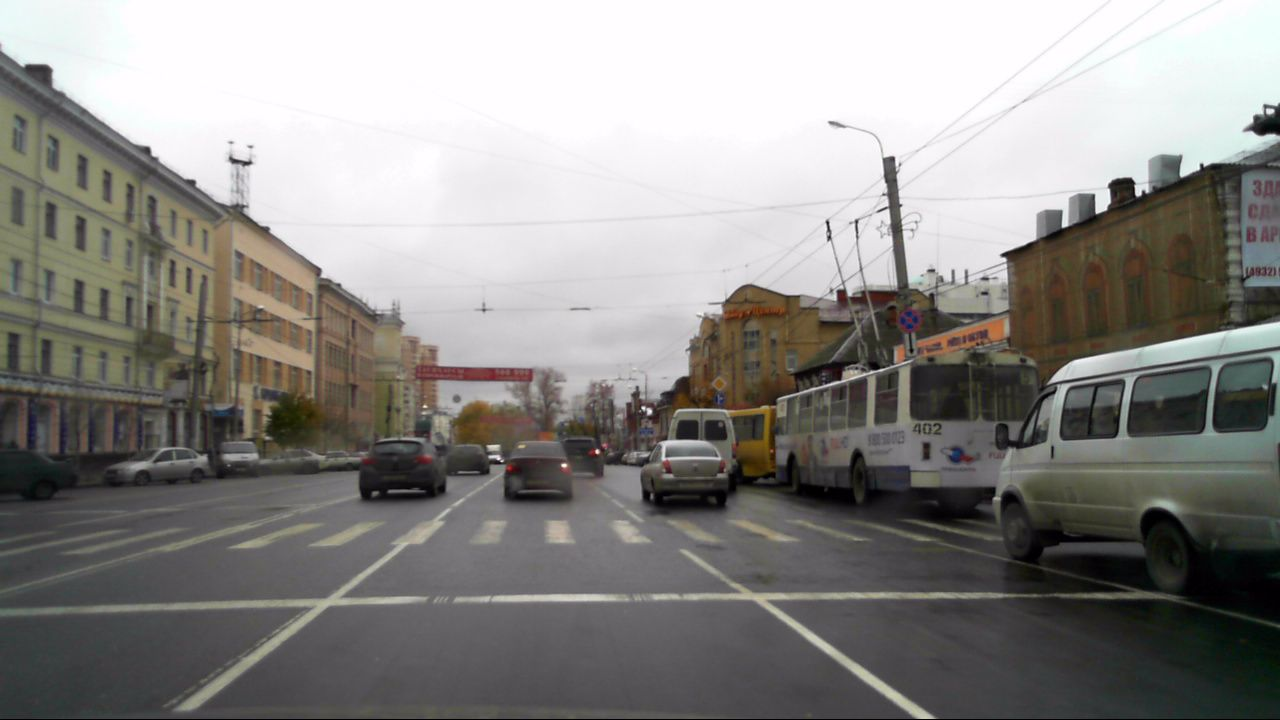No Parking: (896, 308, 922, 333)
